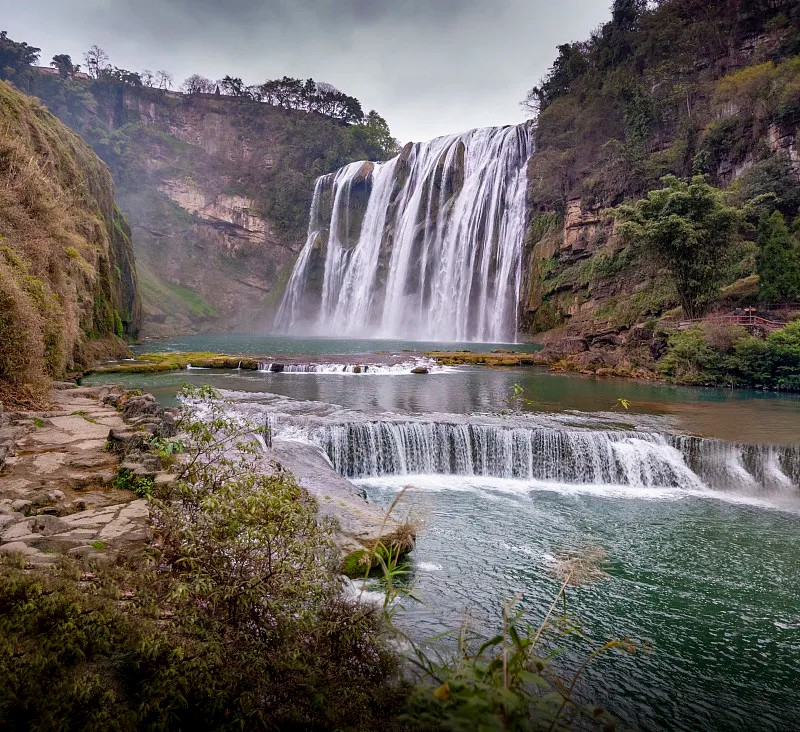Huangguoshu: (275, 118, 534, 344)
